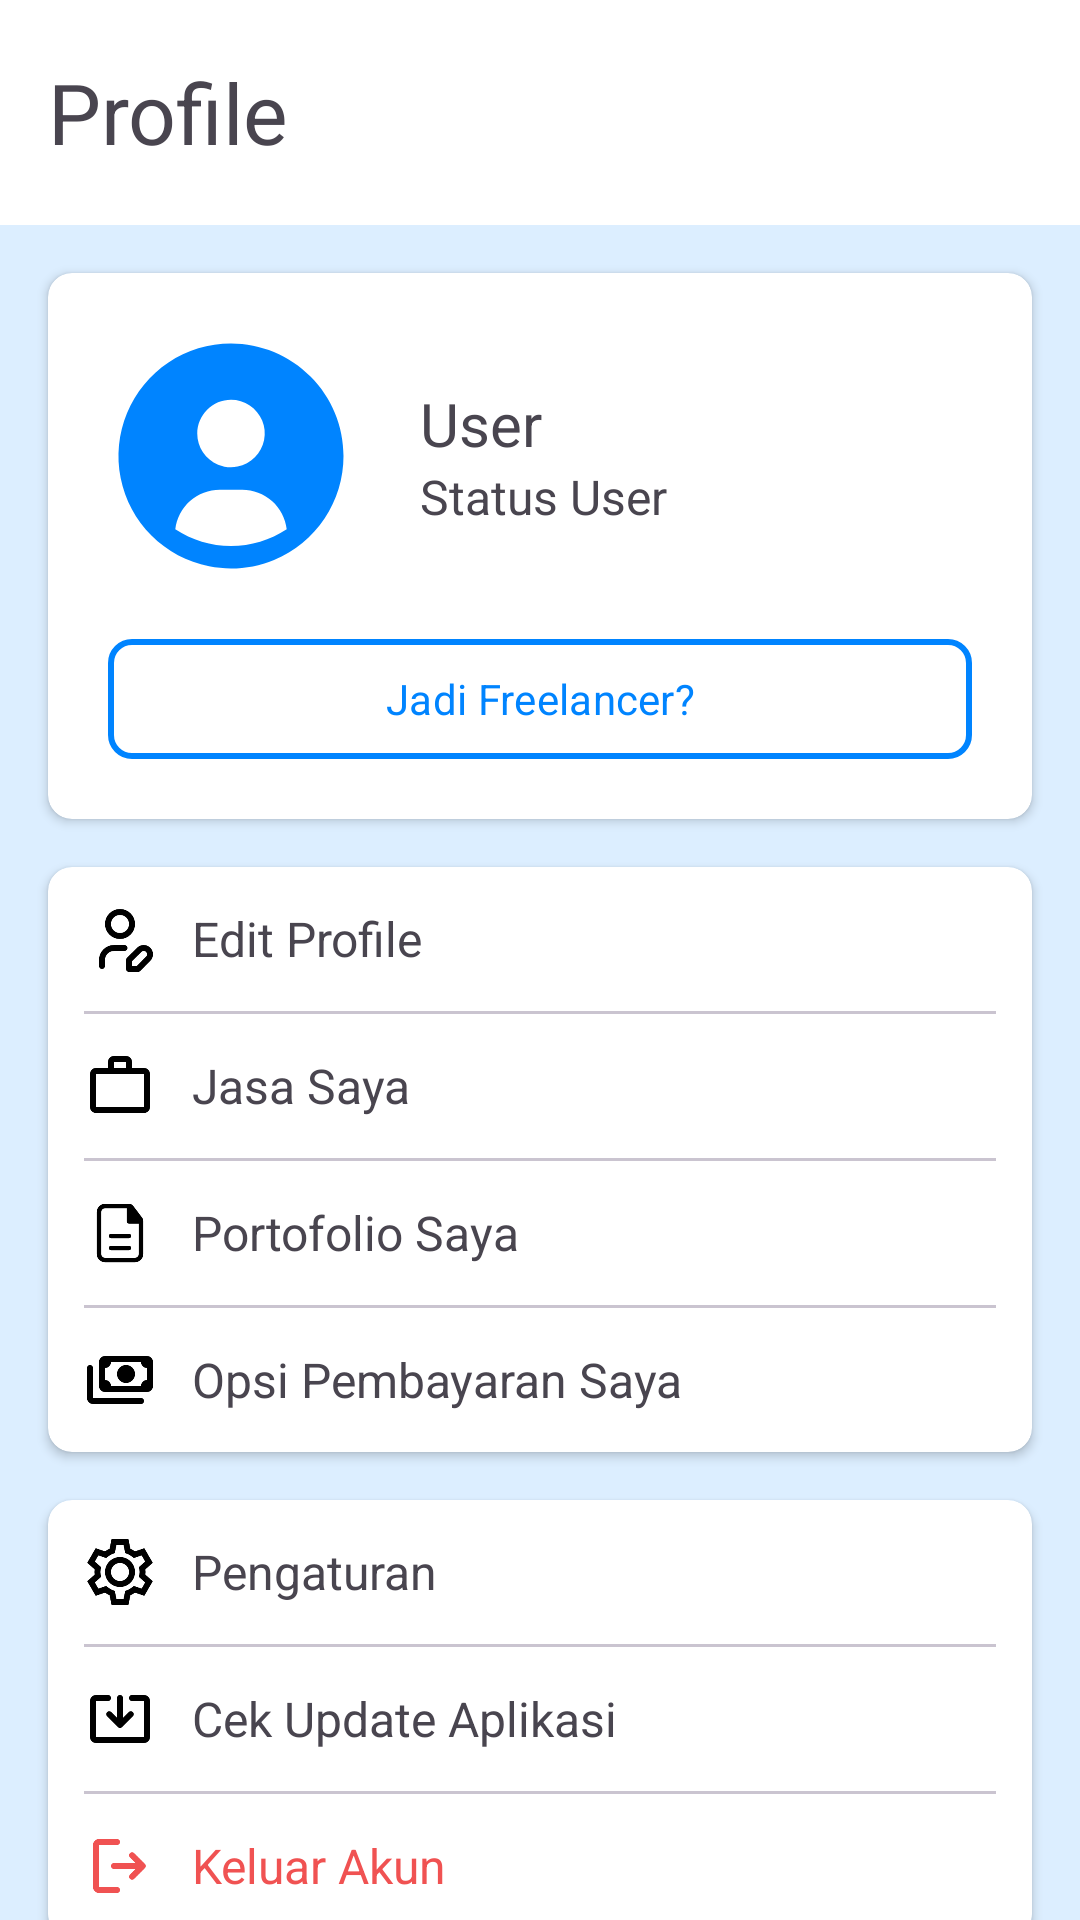

Icons on this 1080 x 1920 Android screen, each with its box as (x1, y1, x2, y2):
edit user: (99, 909, 153, 972)
payment: (87, 1356, 153, 1404)
portfolio: (97, 1204, 143, 1263)
setting: (87, 1539, 153, 1605)
update symbol: (90, 1695, 150, 1743)
work: (90, 1056, 150, 1113)
